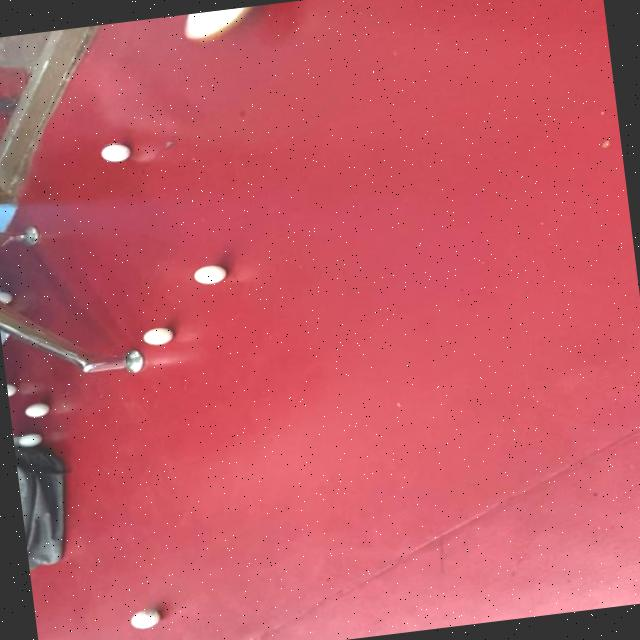ping-pong-ball: (125, 606, 162, 630), (188, 264, 228, 286), (97, 141, 131, 165), (139, 325, 173, 347), (21, 401, 50, 419), (14, 432, 44, 449), (5, 382, 17, 396)
